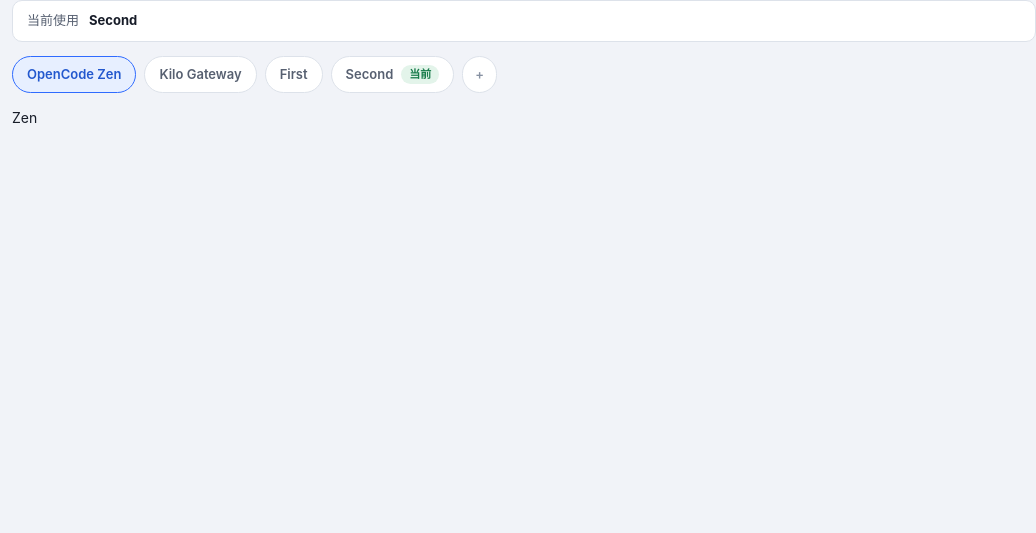
Test: provider connections › tab selection does not activate the connection
Click the tab with test id "provider-tab-a": (294,74) [265, 56, 322, 93]
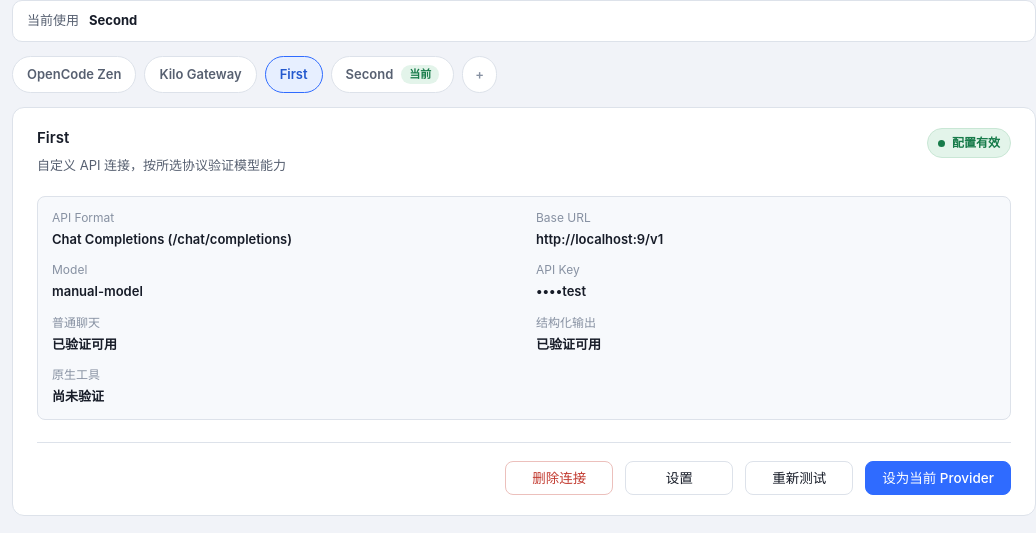
Now the element with test id "connection-panel" shows "First", box [37, 128, 69, 147]
